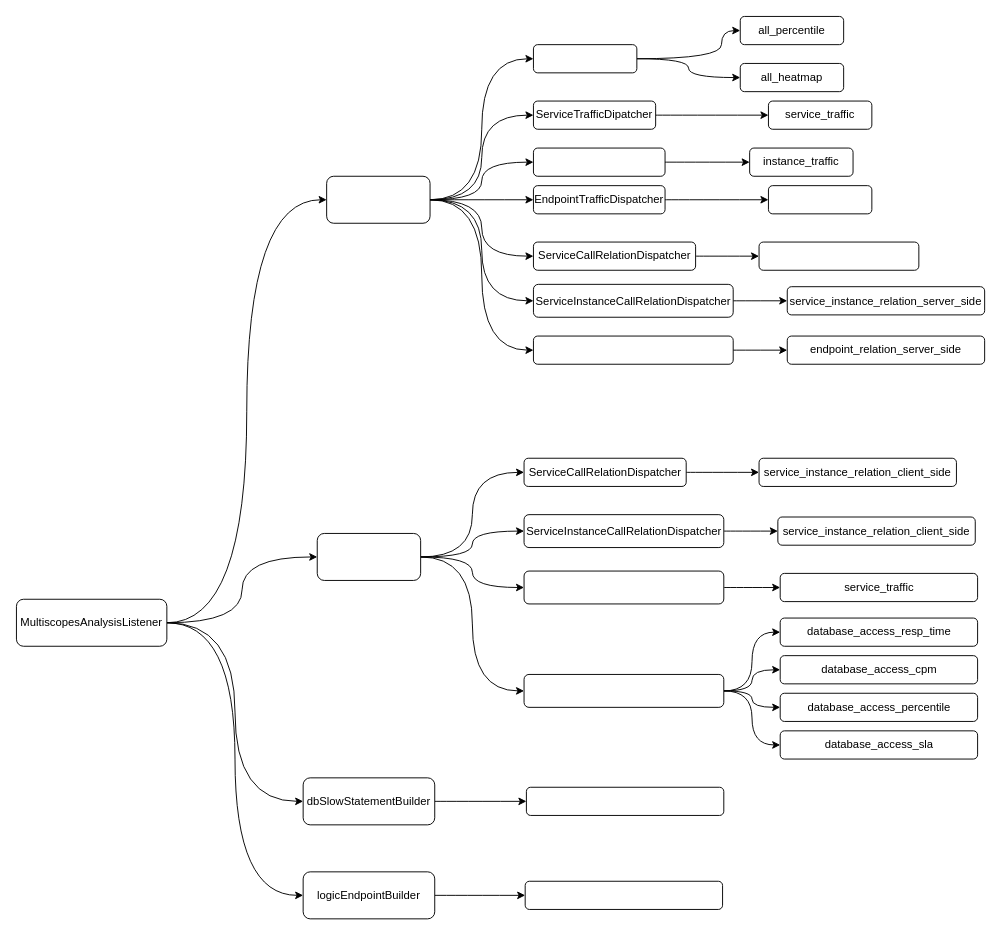
The diagram is 1001 pixels wide and 935 high, and some of its shapes have lost their labels. The centre of each missing label's shape, as x and y in pixels:
AllDispatcher: the point at 585,58
DatabaseAccessDispatcher: the point at 623,690
endpoint: the point at 623,894
endpoint_traffic: the point at 820,199
EndpointCallRelationDispatcher: the point at 633,349
entrySourceBuilder: the point at 378,199
exitSourceBuilder: the point at 368,556
InstanceTrafficDispatcher: the point at 599,161
service_relation_server_side: the point at 838,255
ServiceMetaDispatcher: the point at 623,587
top_n_database_statement: the point at 624,800
